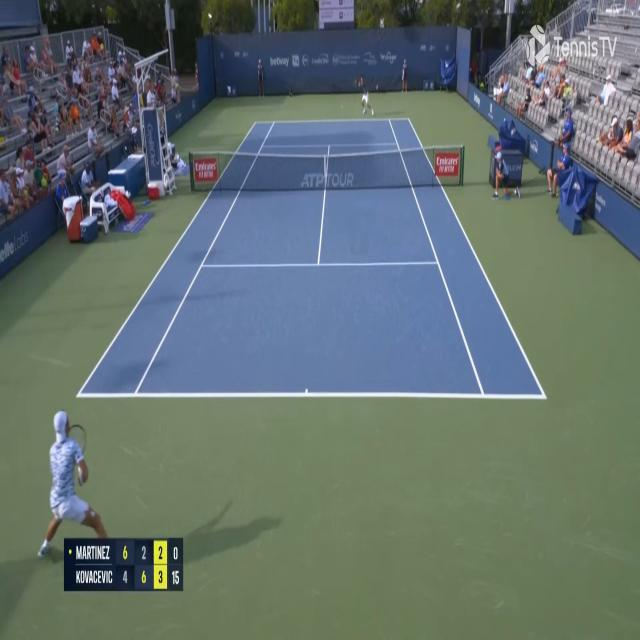tennis-player: (36, 405, 114, 566), (356, 74, 376, 117)
